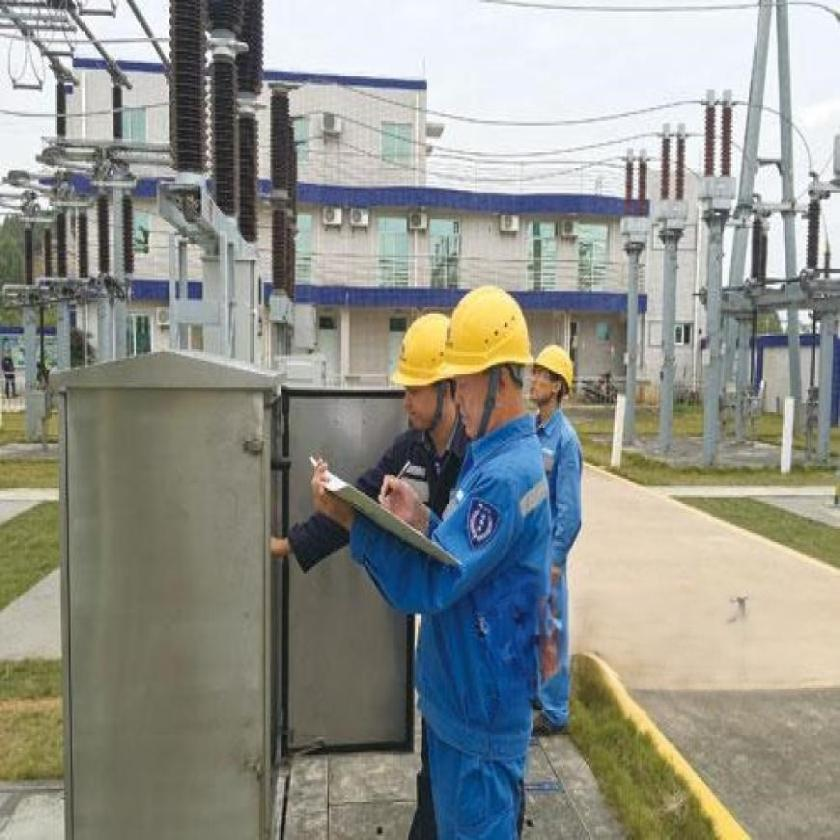Con_casco: (450, 282, 538, 418), (397, 309, 461, 464), (532, 339, 576, 422)
